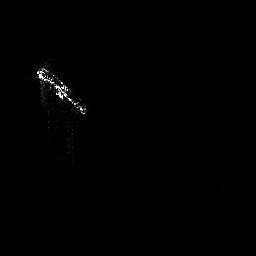ship: (36, 61, 89, 116)
